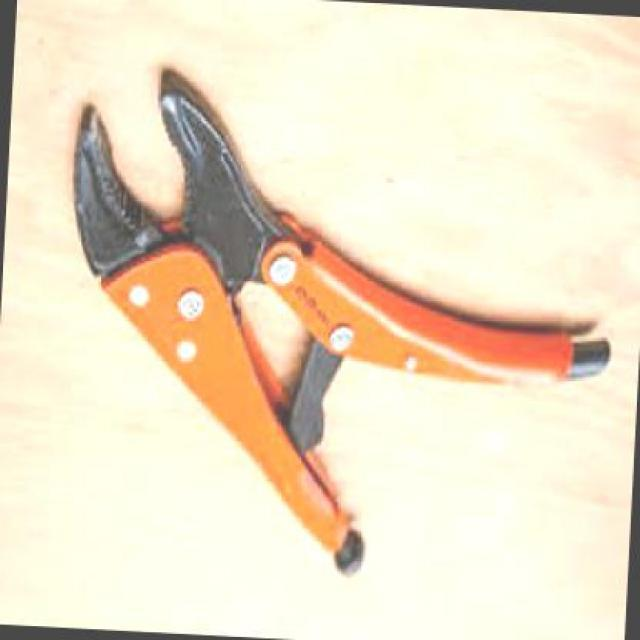pliers: (24, 35, 638, 614)
